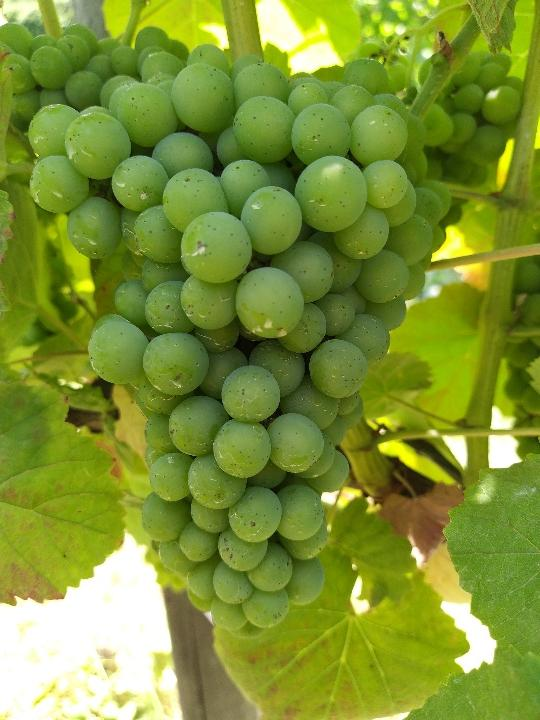grape: (29, 46, 442, 635)
